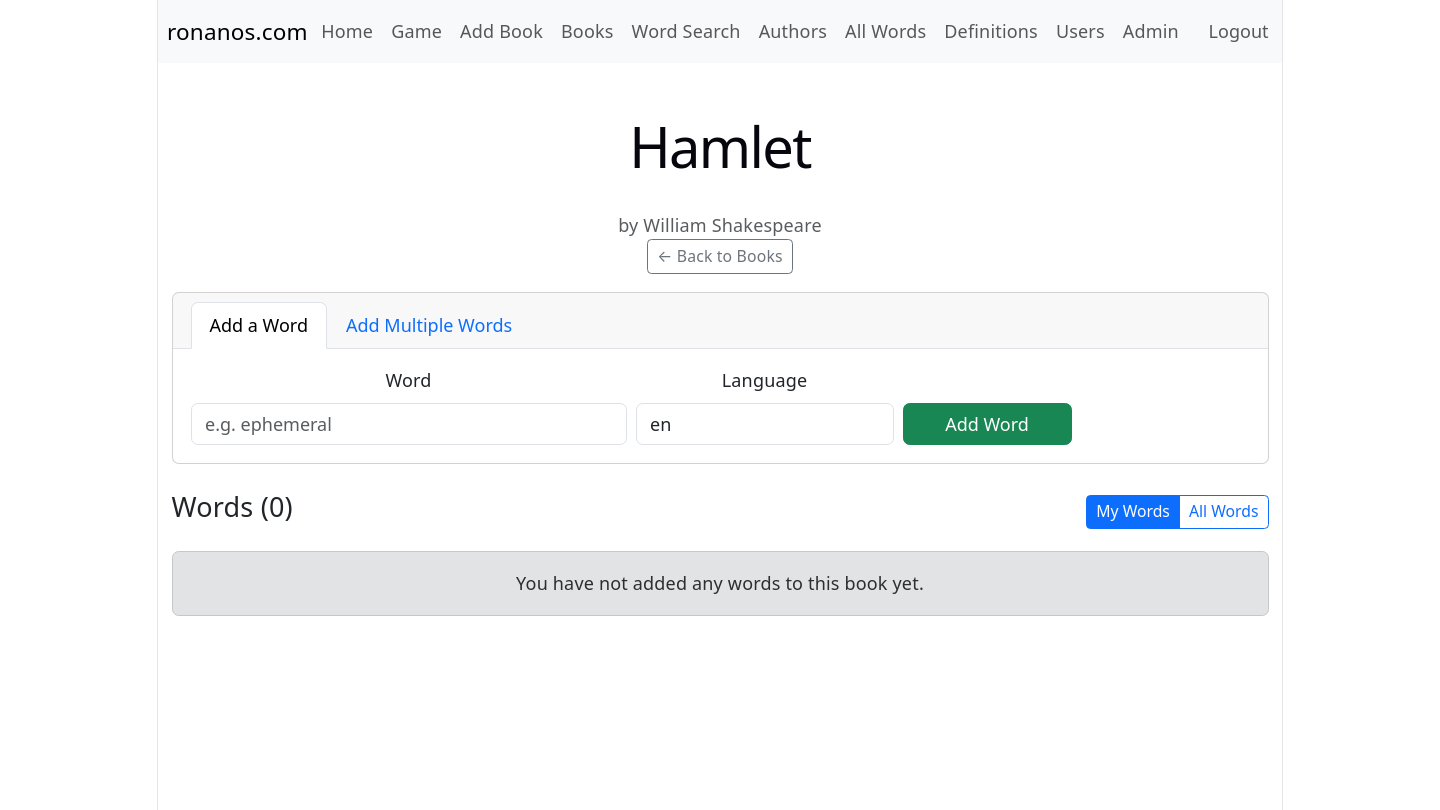
it: BookDetail › adds a word and prepends it to the list
Expected: the heading "Hamlet" is shown, [629,108,811,184]
Step 1. Type "serendipity" into the field with placeholder "e.g. ephemeral" → (408, 424), box [190,403,626,445]
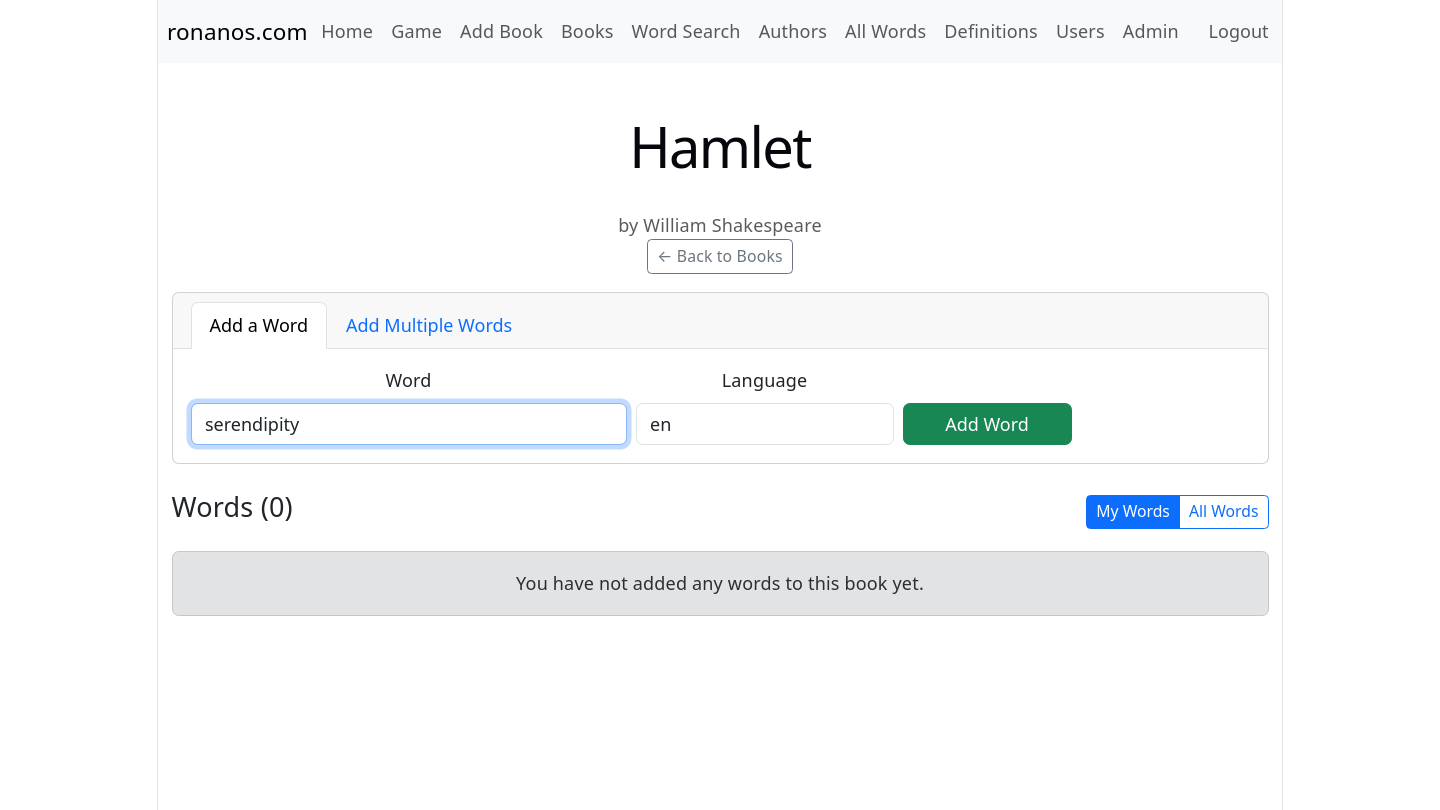
Step 2. Click the button "Add Word" → (987, 424), box [902,403,1072,445]
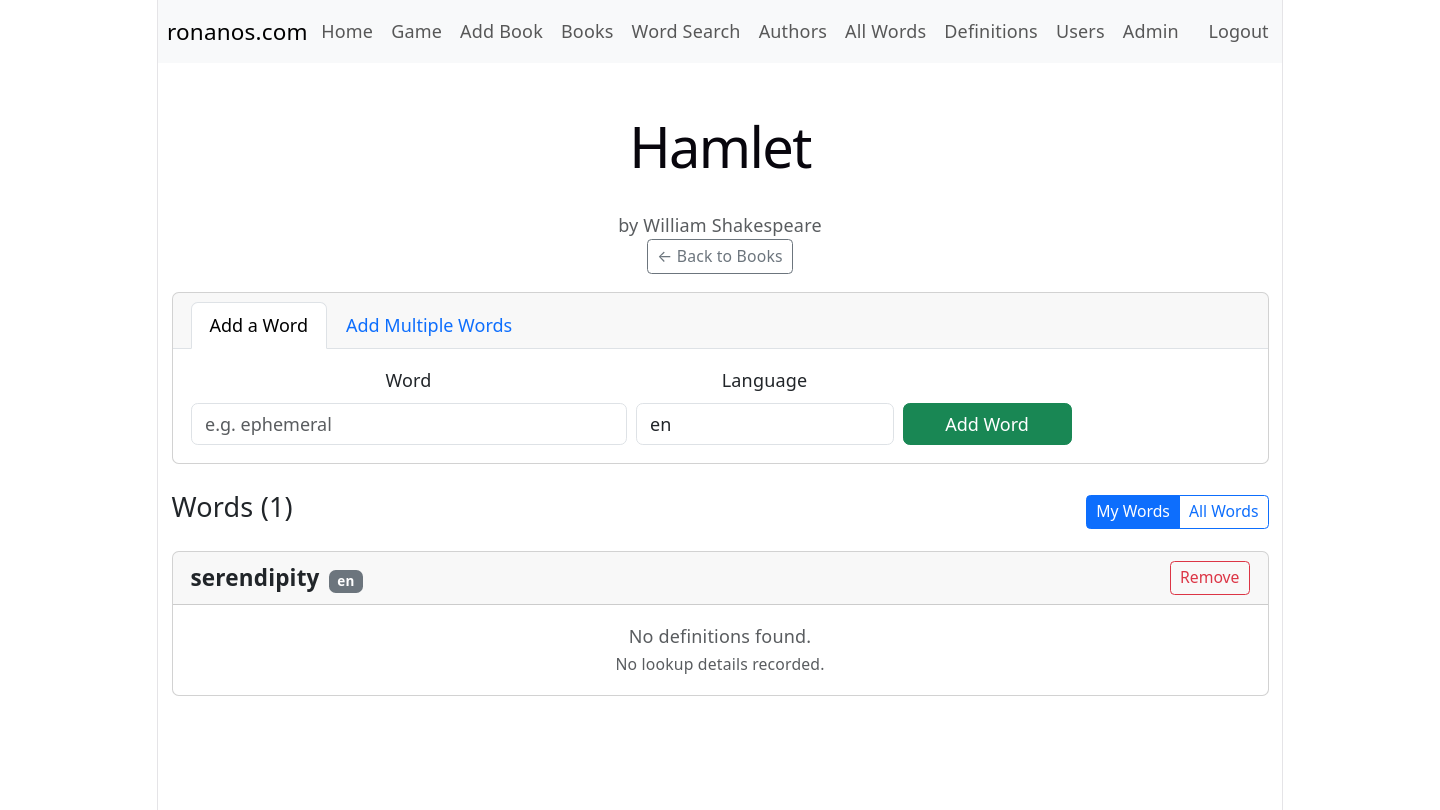
Now the text "serendipity" is shown, box [190,562,320,593]
